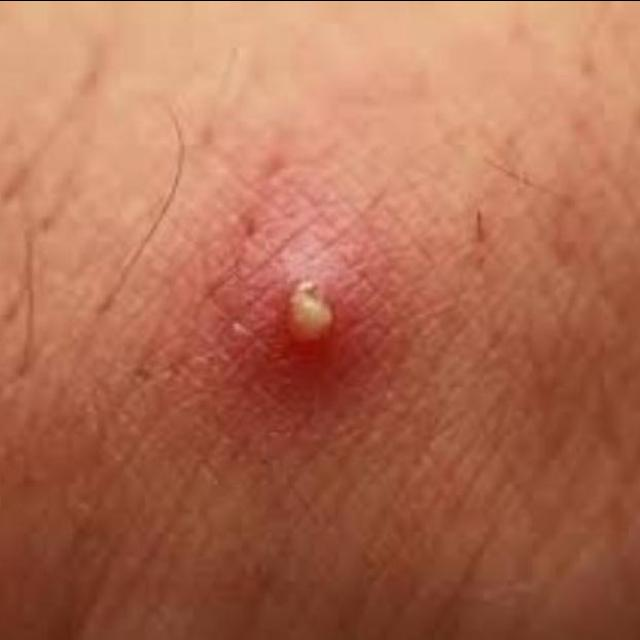pustule: (235, 228, 386, 386)
